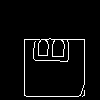B: (24, 30, 69, 65)
